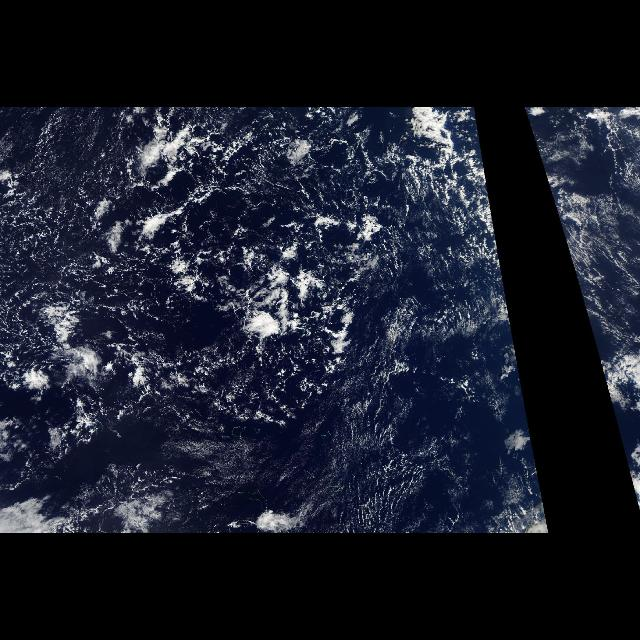Gravel: (0, 108, 430, 466)
Sugar: (352, 224, 548, 528), (558, 223, 636, 497)
